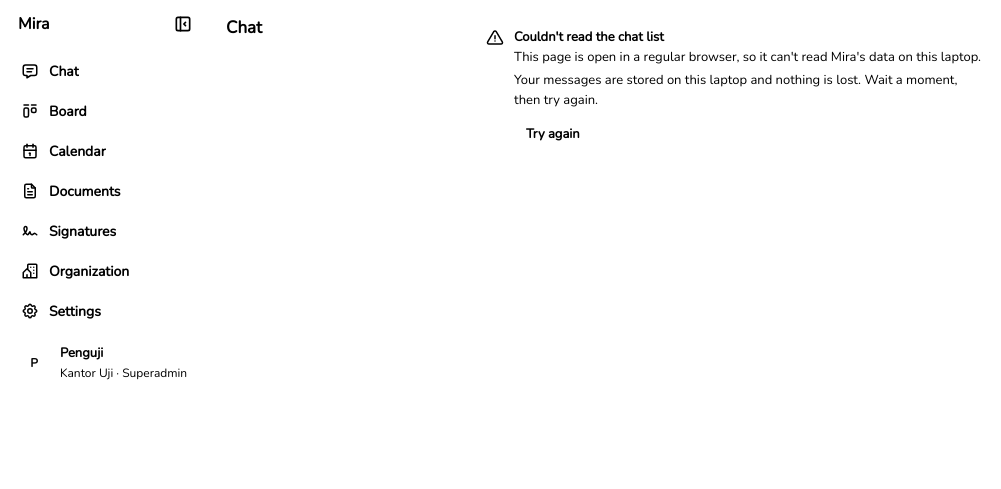
Test: menu profil di sidebar › bahasa Inggris: nama tombol dan item menu
This screenshot has width=1001, height=489.
Click the button with aria-label "Your profile menu": (104, 363) [10,338,198,388]
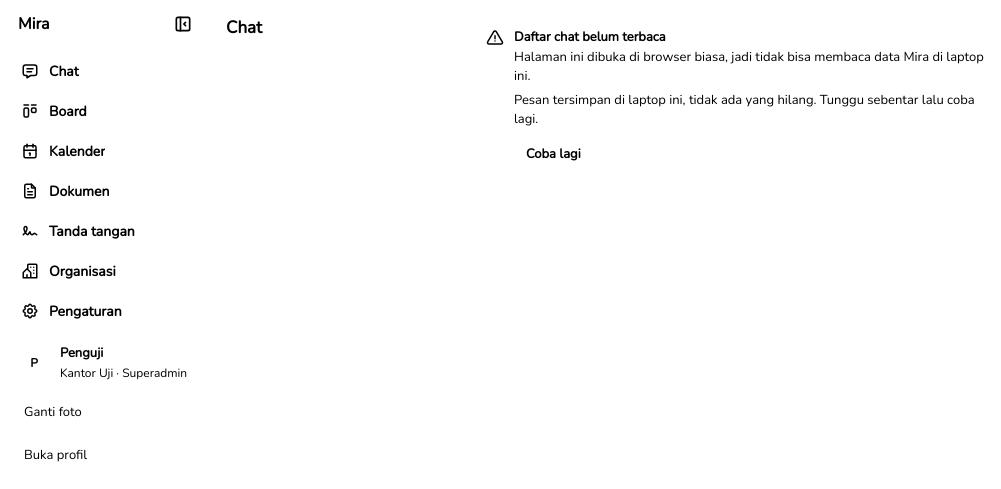
Now the menu item named "Change photo" is shown, box [14,396,206,430]
Now the menu item named "Open profile" is shown, box [14,438,206,472]
